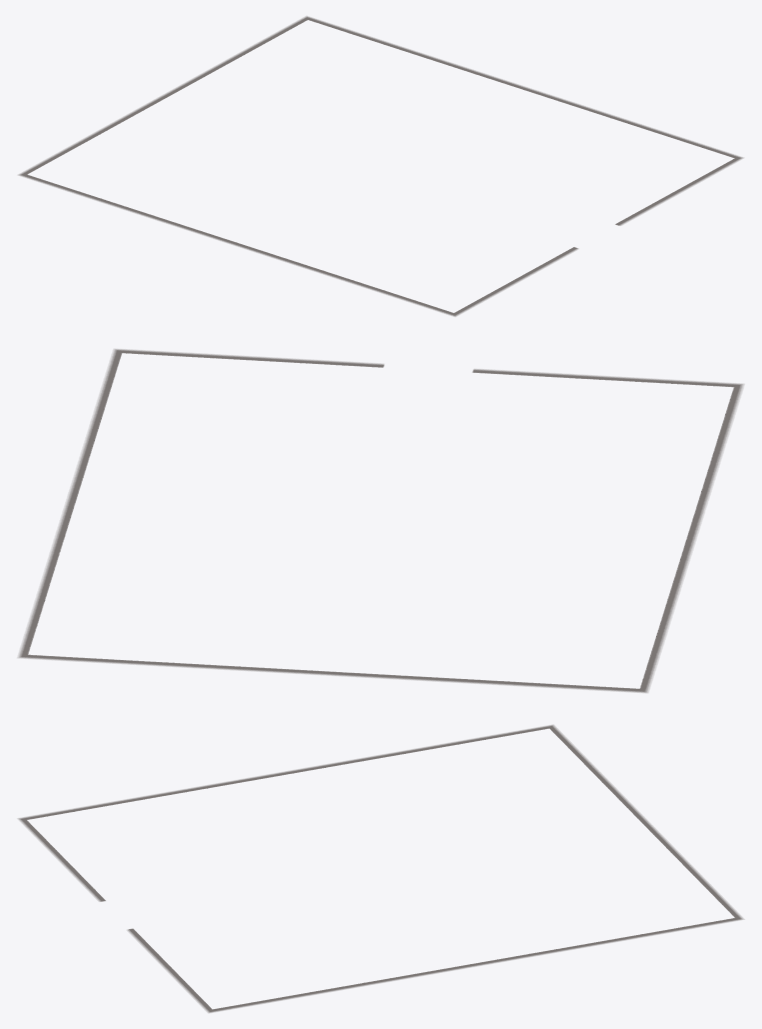
3 renders of one model, top to bottom at view 1: azimuth 30°, elevation 25°; view 2: azimuth 150°, elevation 25°; view 3: azimuth 270°, elevation 25°, orthographic. The views are drawn at different scales.
Parts seen in each view (by area): view 1: GroundShade; view 2: GroundShade; view 3: GroundShade.
Boxes of the visible parts, bbox=[...] form: GroundShade: bbox=[19, 16, 742, 316]; GroundShade: bbox=[18, 349, 743, 692]; GroundShade: bbox=[18, 725, 743, 1012].
Size of the model in its own units: 137 by 0 by 145.
1 material, 1 textured.
